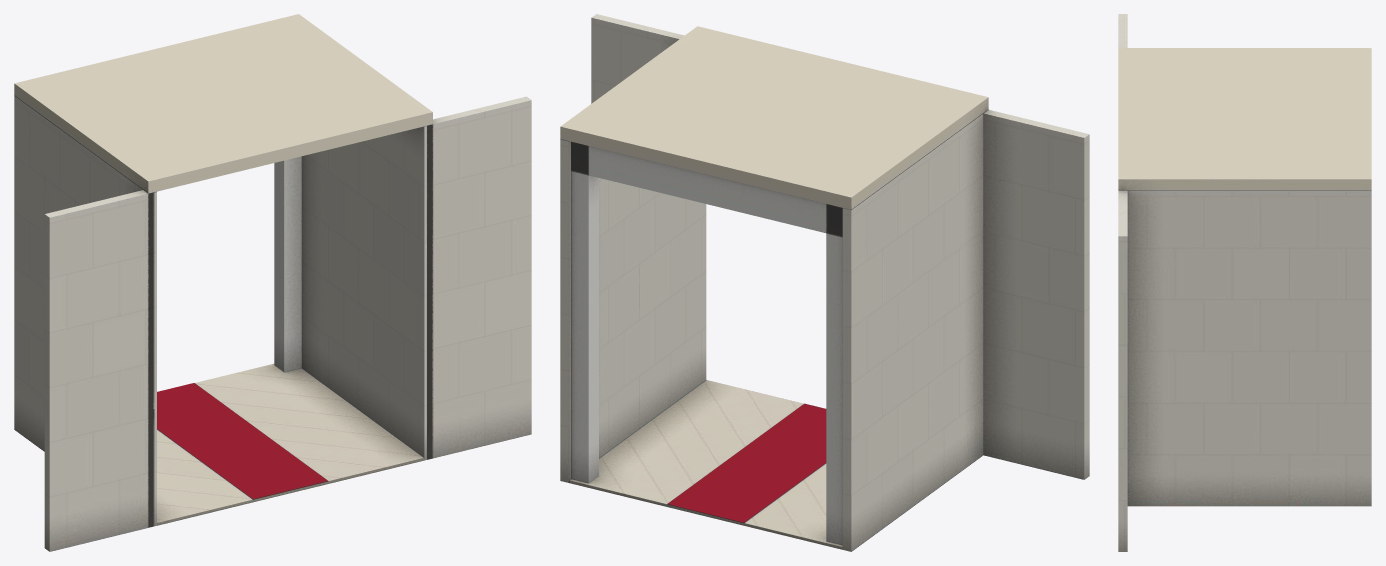
File: capitolio_salida.glb
3 views of the same model, side by side, from view 1: azimuth 30°, elevation 25°; view 2: azimuth 150°, elevation 25°; view 3: azimuth 270°, elevation 25° (orthographic). The views are drawn at different scales.
Visible parts, largest first — view 1: capitolio_salida; view 2: capitolio_salida; view 3: capitolio_salida.
Boxes of the visible parts, x1,y1,x2,y2 form: capitolio_salida: [14, 14, 531, 551]; capitolio_salida: [560, 14, 1089, 551]; capitolio_salida: [1118, 14, 1371, 551].
Bounding box in the file's own units: 16.6 × 11.4 × 8.
1 material, 1 textured.
